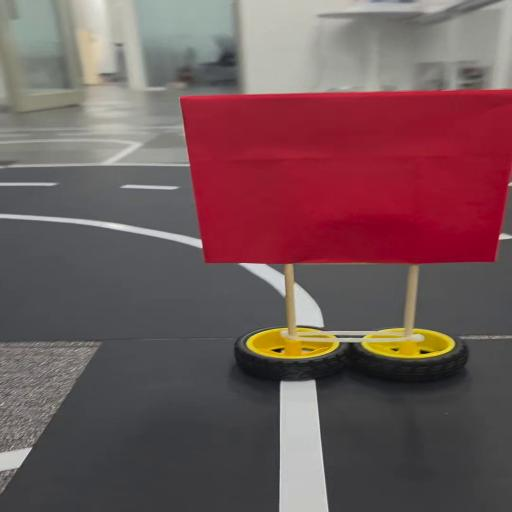Sign_A: (178, 89, 512, 387)
